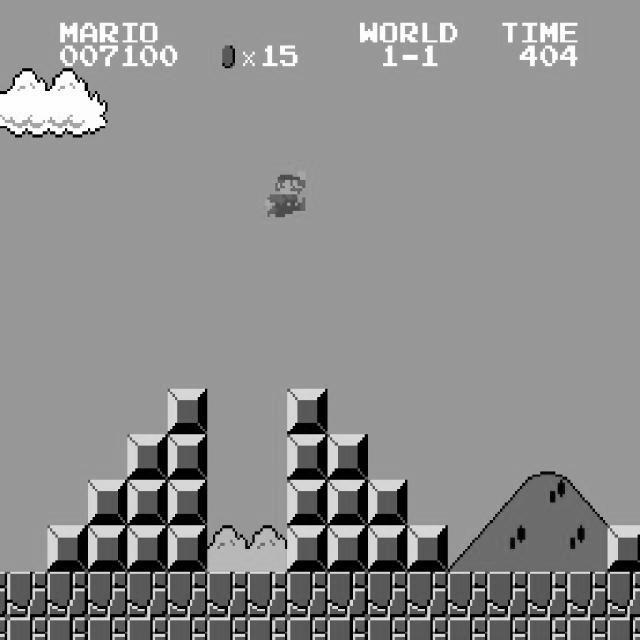11- little_mario: (262, 168, 305, 218)
17- undestructible_block: (7, 572, 48, 618), (47, 572, 88, 618), (87, 572, 128, 618), (127, 572, 168, 618), (167, 572, 208, 618), (207, 572, 248, 618), (247, 572, 288, 618), (287, 572, 328, 618), (327, 572, 368, 618), (367, 572, 408, 618), (407, 572, 448, 618), (447, 572, 488, 618), (487, 572, 528, 618), (527, 572, 568, 618), (567, 572, 608, 618), (607, 571, 640, 617), (7, 617, 48, 640), (47, 617, 88, 640), (87, 617, 128, 640), (127, 617, 168, 640), (167, 617, 208, 640), (207, 617, 248, 640), (247, 617, 288, 640), (287, 617, 328, 640), (327, 617, 368, 640), (367, 617, 408, 640), (407, 617, 448, 640), (447, 617, 488, 640), (487, 617, 528, 640), (527, 617, 568, 640), (567, 617, 608, 640), (607, 617, 640, 639), (0, 572, 7, 618), (0, 617, 7, 640)
9- hard_block: (47, 526, 88, 572), (87, 480, 128, 526), (87, 526, 128, 572), (127, 434, 168, 480), (127, 480, 168, 526), (127, 526, 168, 572), (167, 388, 208, 434), (167, 434, 208, 480), (167, 480, 208, 526), (167, 526, 208, 572), (287, 388, 328, 434), (287, 434, 328, 480), (287, 480, 328, 526), (287, 526, 328, 572), (327, 434, 368, 480), (327, 480, 368, 526), (327, 526, 368, 572), (367, 480, 408, 526), (367, 526, 408, 572), (407, 526, 448, 572), (607, 525, 640, 571)
